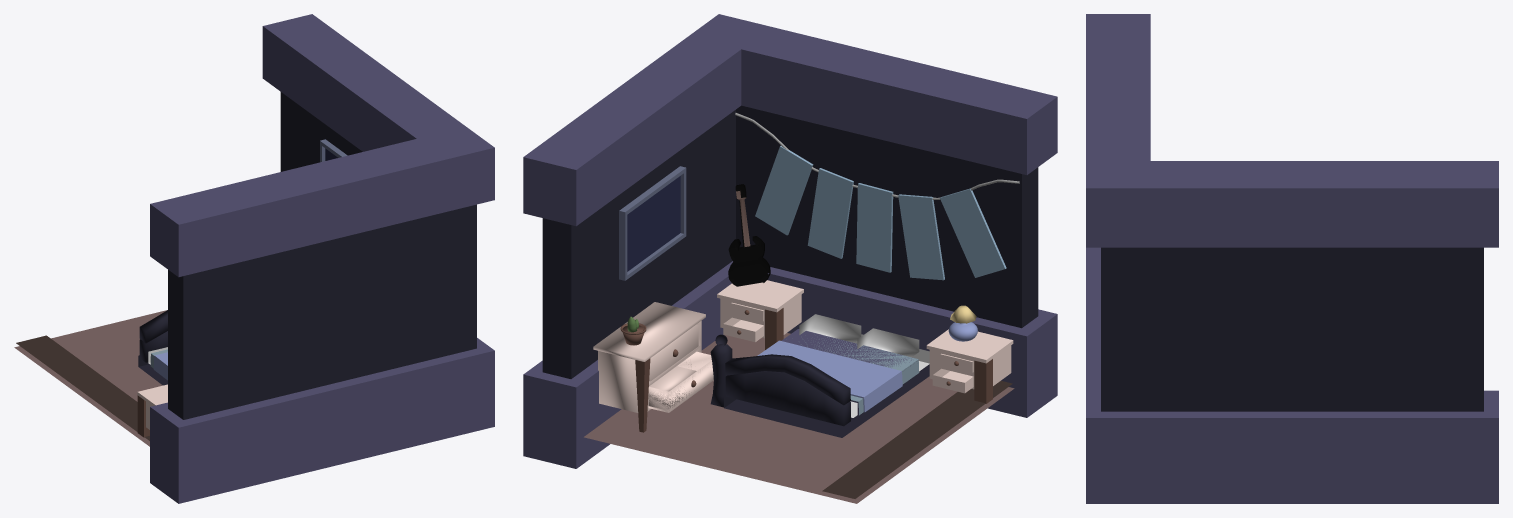
Rendered from isometricRoom.glb.
3 renders of one model, left to right at view 1: azimuth 30°, elevation 25°; view 2: azimuth 150°, elevation 25°; view 3: azimuth 270°, elevation 25°, orthographic. The views are drawn at different scales.
Visible parts, largest first — view 1: Cube, Plane, Plane.001, Plane.003, Plane.015; view 2: Cube, Plane, Plane.009, Plane.003, Cube.001, Plane.001, Plane.017, Plane.015, Plane.013, Cube.005, Cube.006, Cube.004 (+13 smaller); view 3: Cube.
Boxes of the visible parts, bbox=[...] form: Cube: bbox=[150, 14, 494, 503]; Plane: bbox=[14, 310, 167, 446]; Plane.001: bbox=[16, 335, 149, 440]; Plane.003: bbox=[139, 310, 167, 362]; Plane.015: bbox=[137, 384, 167, 429]; Cube: bbox=[523, 14, 1057, 468]; Plane: bbox=[584, 333, 1014, 503]; Plane.009: bbox=[593, 302, 713, 412]; Plane.003: bbox=[725, 354, 850, 426]; Cube.001: bbox=[619, 166, 686, 280]; Plane.001: bbox=[822, 381, 1012, 498]; Plane.017: bbox=[717, 280, 803, 342]; Plane.015: bbox=[926, 329, 1013, 393]; Plane.013: bbox=[757, 340, 902, 412]; Cube.005: bbox=[898, 194, 944, 280]; Cube.006: bbox=[940, 188, 1006, 277]; Cube.004: bbox=[856, 183, 893, 272]; Cube: bbox=[1086, 14, 1498, 503].
Size of what is drawn, in the model's own units: 2.37 by 2 by 2.37.
